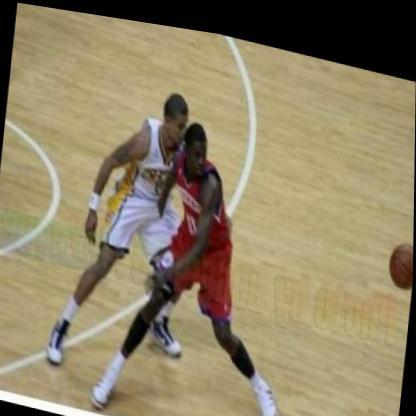basketball: (386, 224, 414, 278)
